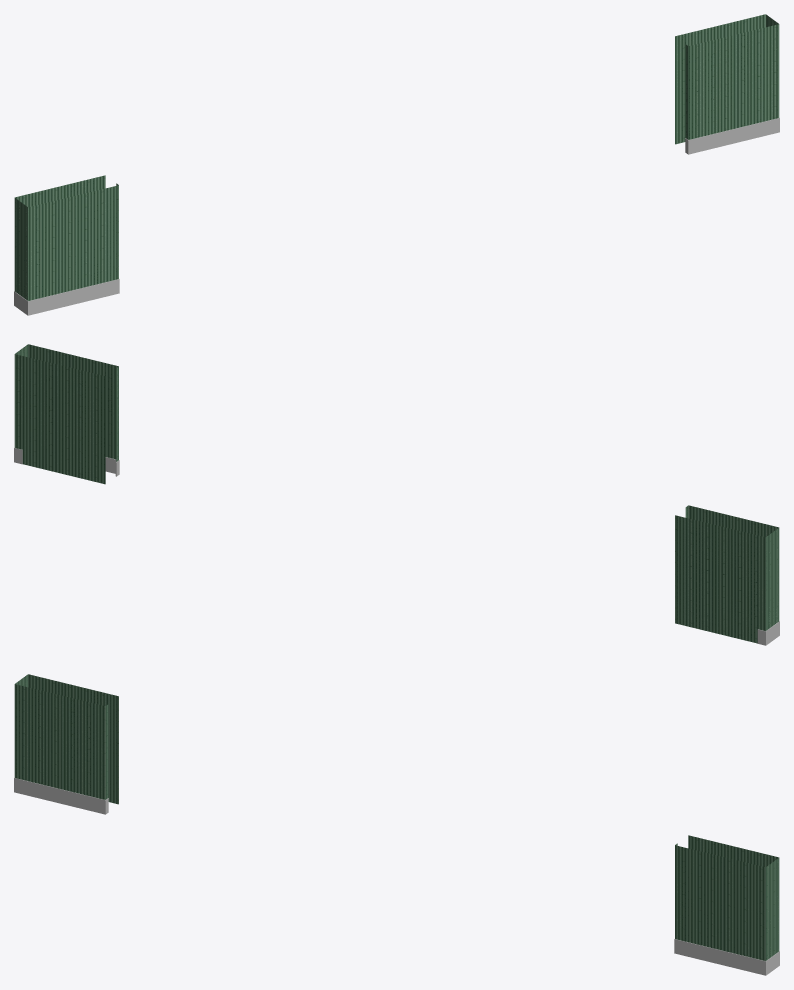
Rendered from door_box.obj.
The picture shows the model from 3 angles, top to bottom: view 1: azimuth 30°, elevation 25°; view 2: azimuth 150°, elevation 25°; view 3: azimuth 330°, elevation 25°; orthographic projection.
Size of the model in its own units: 10976 by 1509 by 354.
3 materials, 2 textured.
